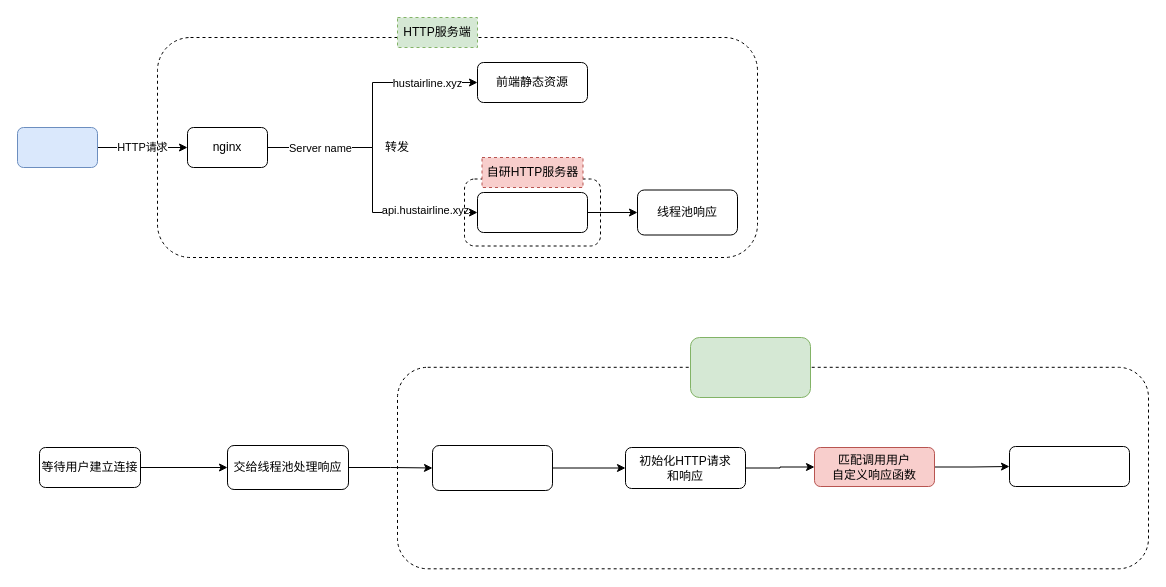
Some shapes in this 1166 by 587 pixel diagram are drawn without their labels. Here are the shapes that lost their labels. From the top down, the box of each, then its label:
(16, 126, 98, 168): HTTP 客户端
(476, 192, 588, 232): 后端HTTP服务器
(690, 336, 810, 398): 线程池内处理
(432, 444, 552, 490): 接收数据
(1008, 446, 1130, 486): 返回HTTP响应
